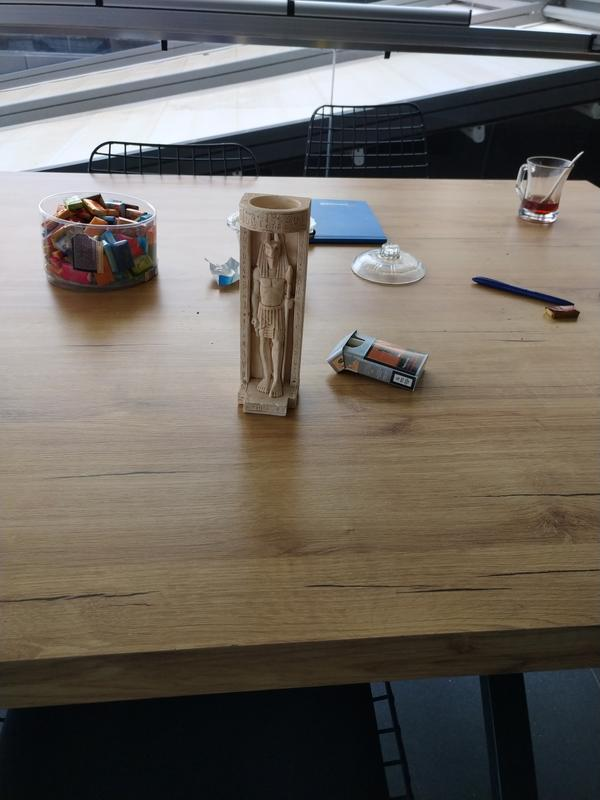heykel: (228, 187, 316, 423)
